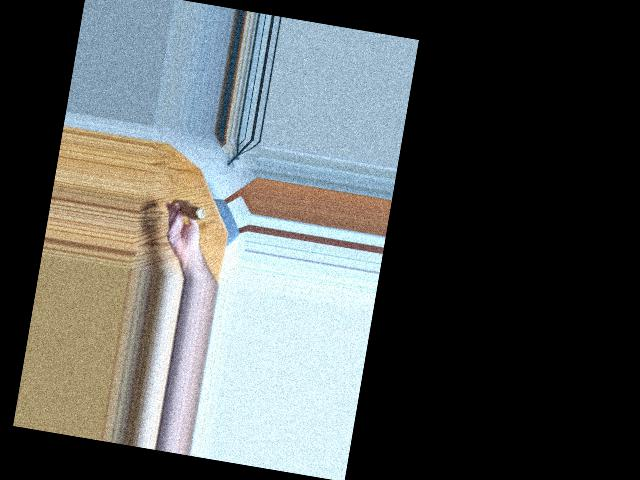sweet_potato: (166, 196, 212, 231)
